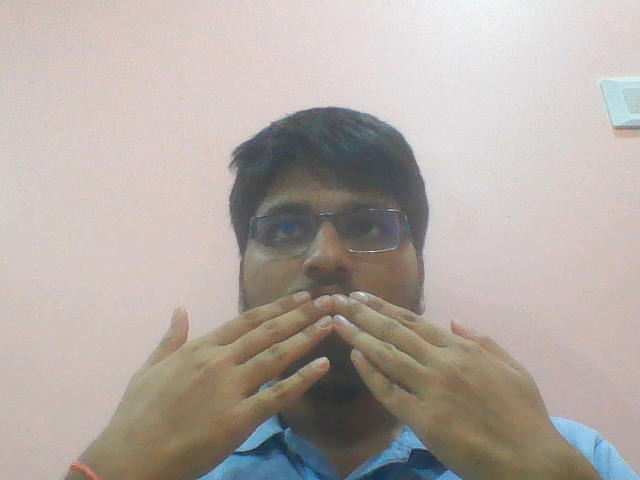thankyou: (56, 274, 589, 474)
